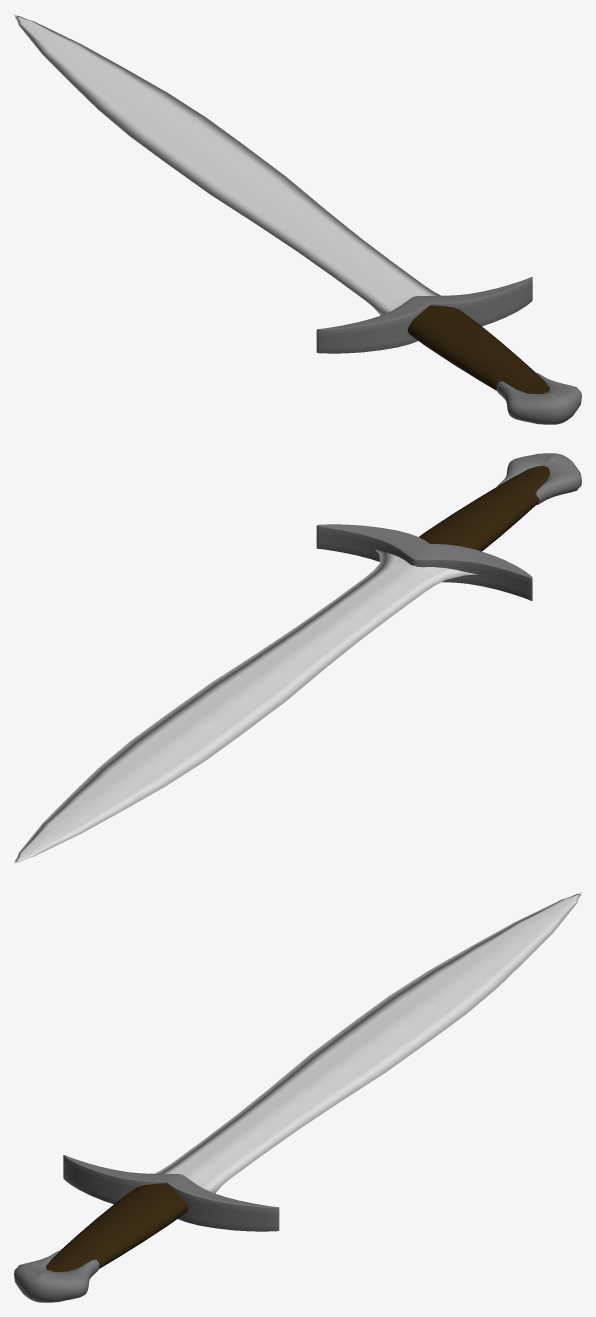
The model's file is Espada.dae.
3 renders of one model, top to bottom at view 1: azimuth 30°, elevation 25°; view 2: azimuth 150°, elevation 25°; view 3: azimuth 330°, elevation 25°, orthographic.
Parts seen in each view (by area): view 1: Espada; view 2: Espada; view 3: Espada.
Boxes of the visible parts, <box> form: Espada: <box>14,14,581,424</box>; Espada: <box>14,453,581,863</box>; Espada: <box>14,892,581,1302</box>.
Size of the model in its own units: 1.8 by 7.91 by 0.2422.
